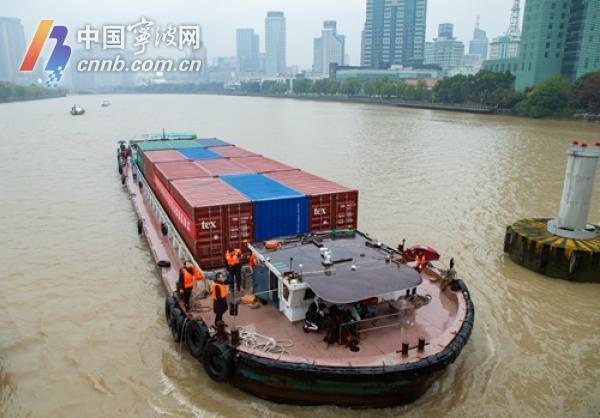Cargoship: (114, 115, 478, 388)
